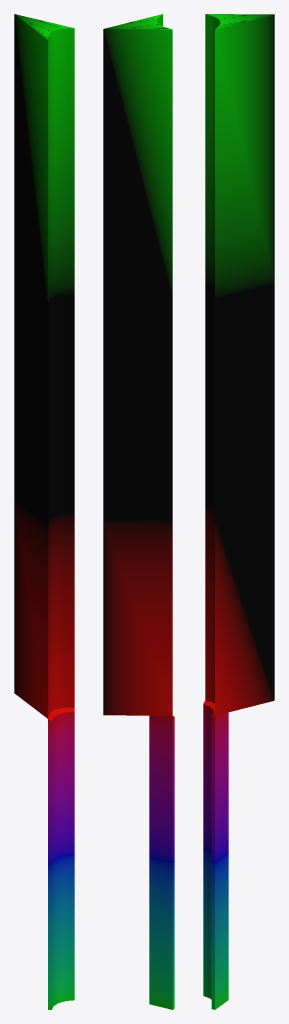
The model's file is WallV3ConnectorInV1.fbx.
3 views of the same model, side by side, from view 1: azimuth 90°, elevation 25°; view 2: azimuth 150°, elevation 25°; view 3: azimuth 330°, elevation 25° (orthographic).
Visible parts, largest first — view 1: WallV3ConnectorInV1; view 2: WallV3ConnectorInV1; view 3: WallV3ConnectorInV1.
Part boxes in pixels (x1,y1,x2,y2): WallV3ConnectorInV1: [14, 14, 74, 1009]; WallV3ConnectorInV1: [103, 14, 174, 1009]; WallV3ConnectorInV1: [203, 14, 274, 1009].
Size of the model in its own units: 22.5 by 400 by 22.5.
